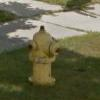Hydrant: (23, 22, 63, 87)
